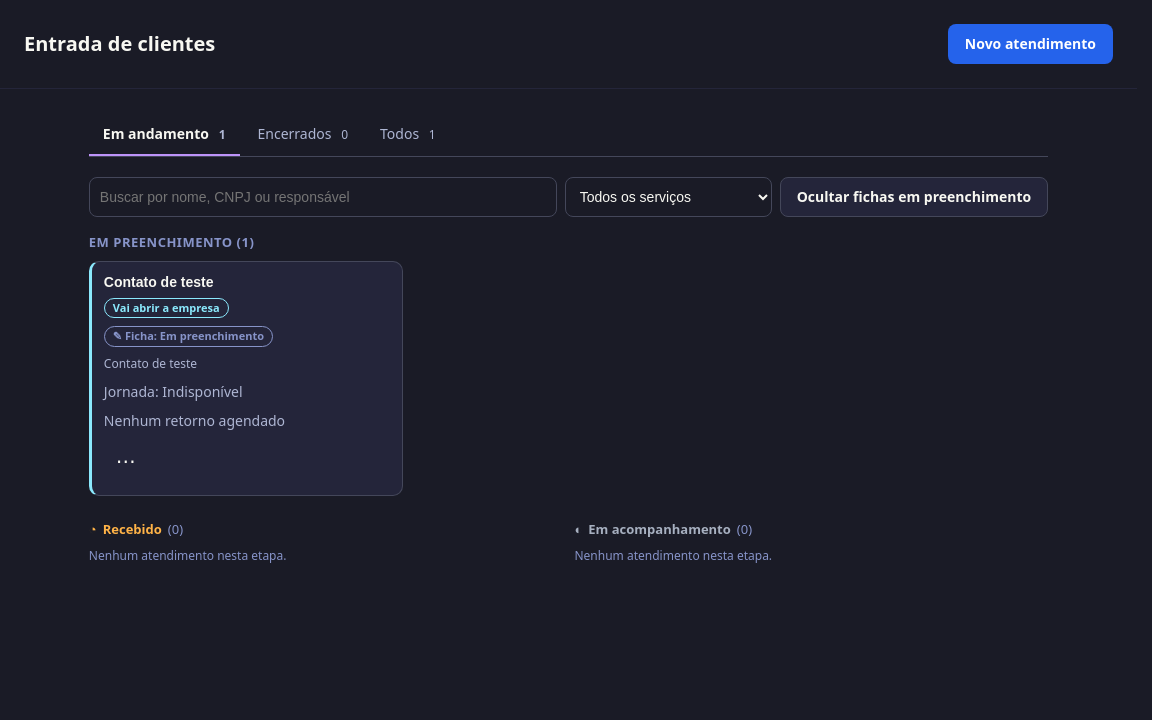
Test: exclusão sem confirmação não remove ficha nem contador: {"ok":false}
Step 1. Click the button named "Ações de Contato de teste" → [126, 460], box [104, 438, 148, 482]
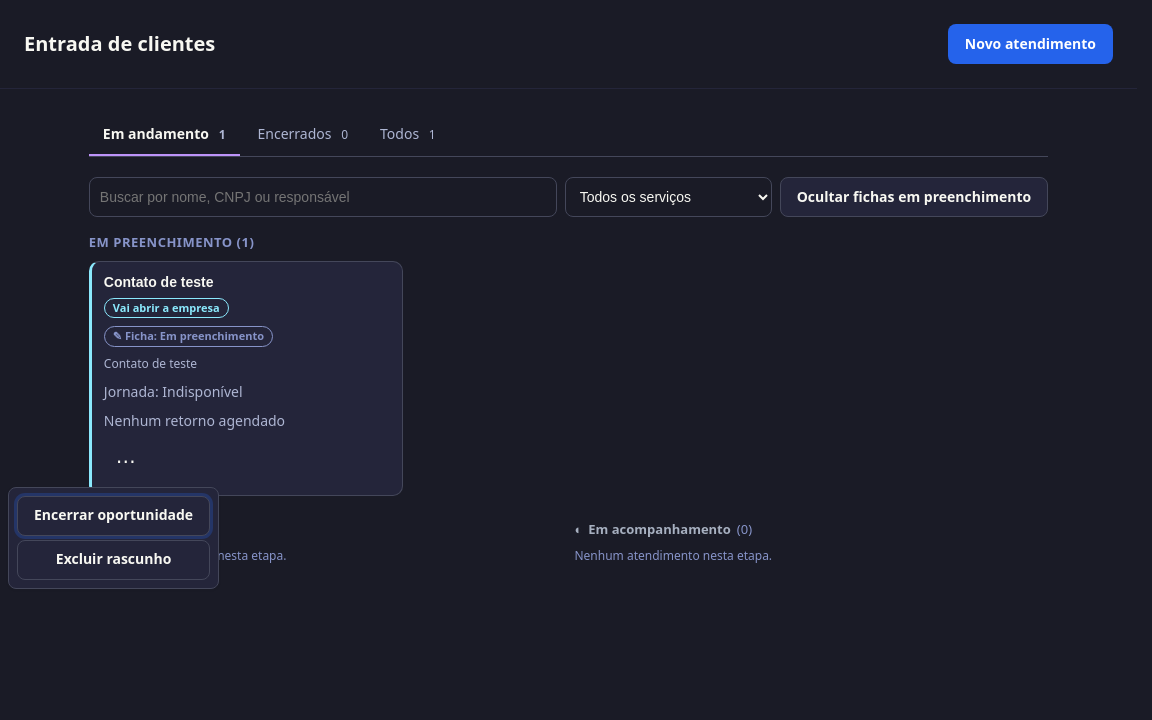
Step 2. Click the menu item "Excluir rascunho" → [114, 560], box [17, 540, 210, 580]
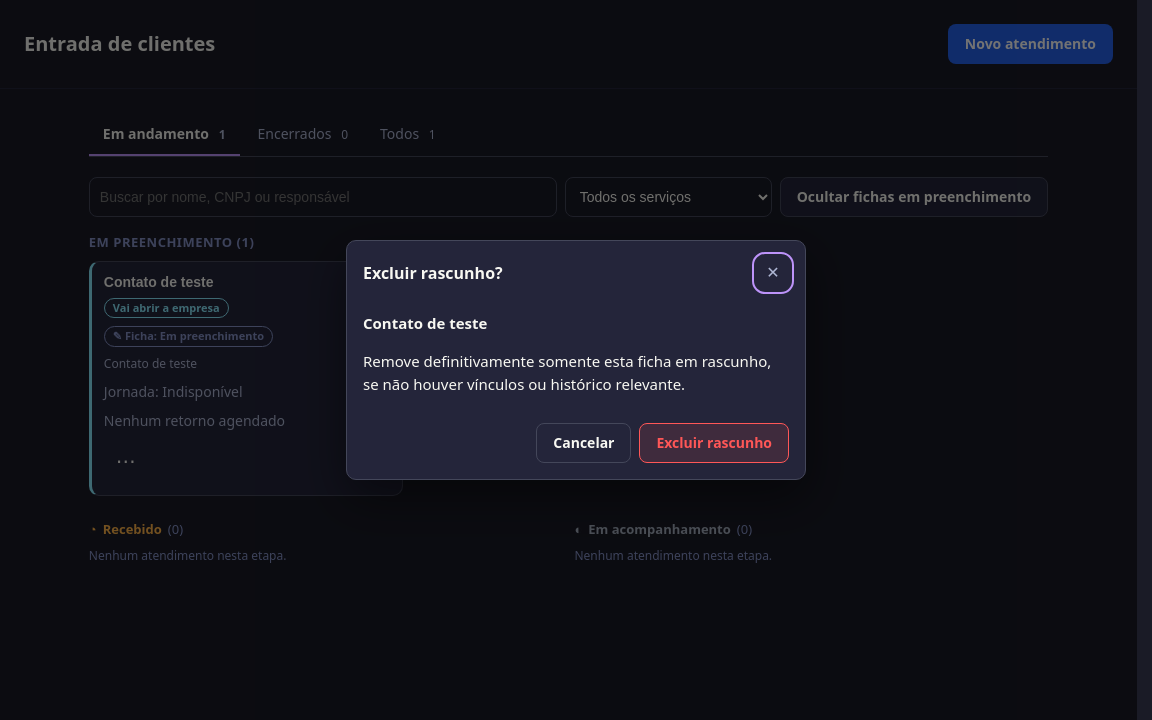
expect the button "Excluir rascunho" is enabled: met
Step 3. Click the button "Excluir rascunho" → [714, 443], box [640, 423, 789, 463]
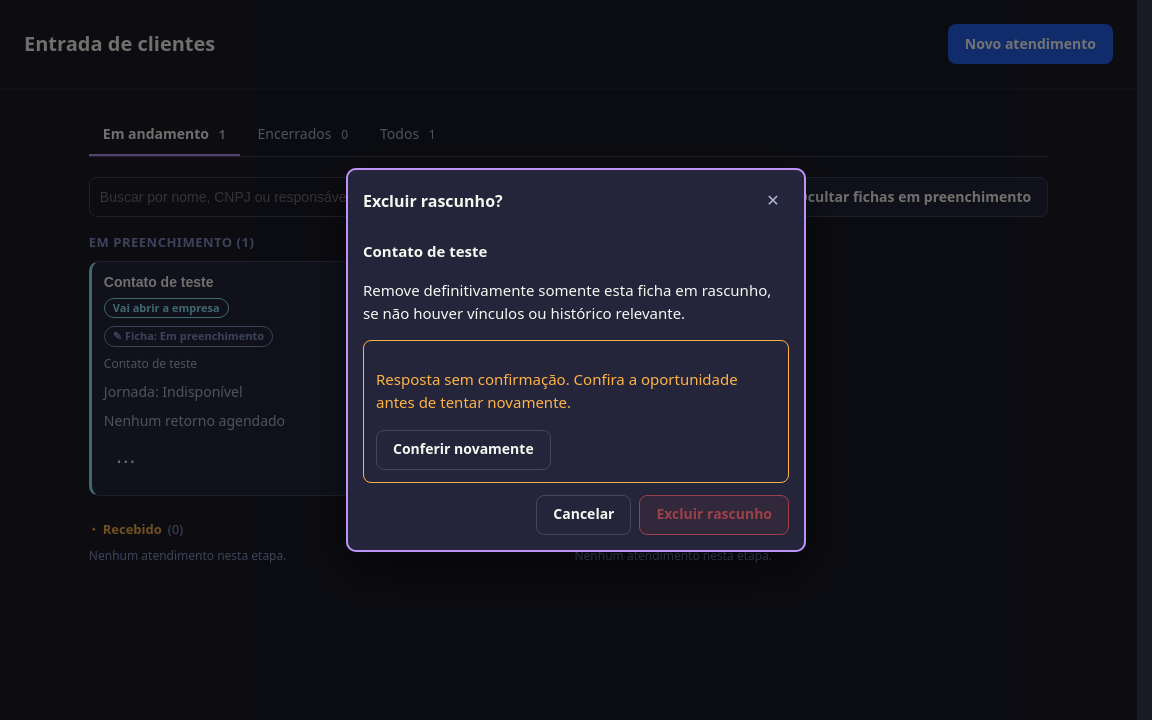
expect the button "Contato de teste" is shown: met, box [104, 274, 390, 290]
expect the message shows "Resposta sem confirmação": met, box [376, 369, 738, 412]
